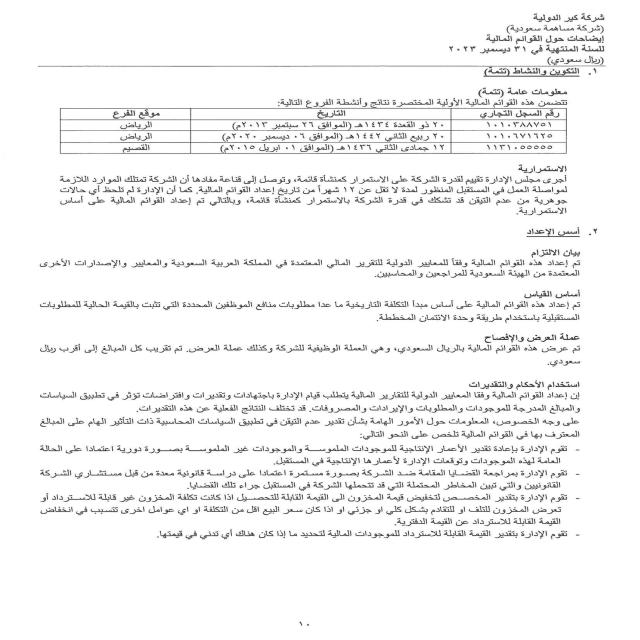notes: (475, 29, 608, 47)
table: (35, 93, 595, 164)
